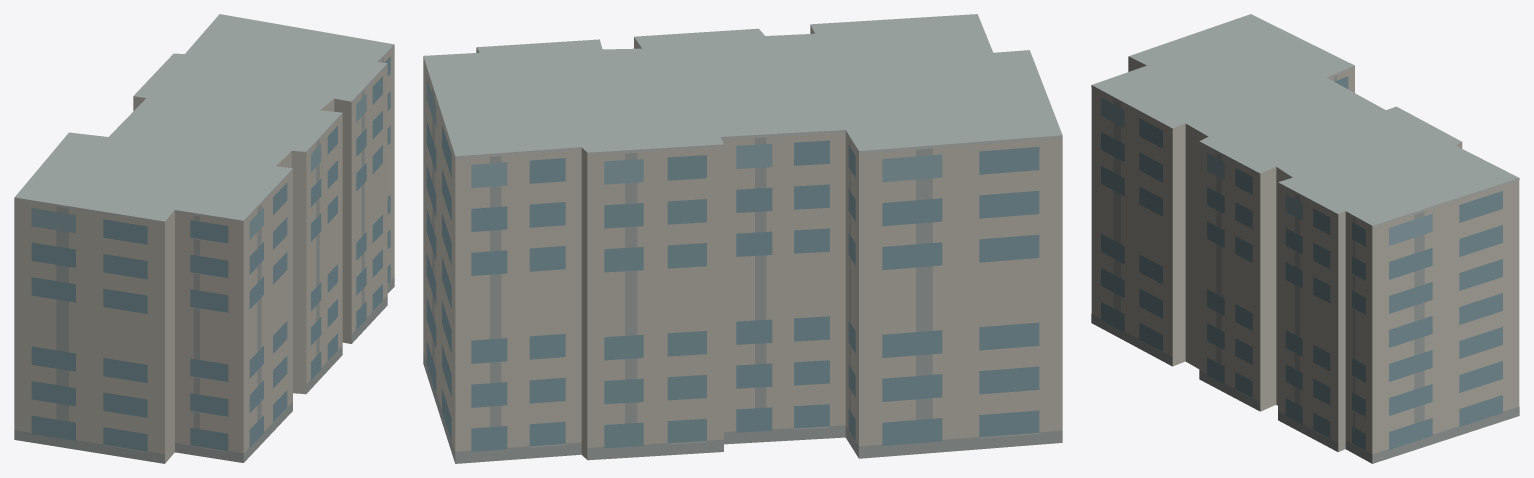
The model's file is survey-upis-32497701.glb.
3 views of the same model, side by side, from view 1: azimuth 30°, elevation 25°; view 2: azimuth 150°, elevation 25°; view 3: azimuth 270°, elevation 25° (orthographic). The views are drawn at different scales.
Visible parts, largest first — view 1: survey-upis-32497701.tmp; view 2: survey-upis-32497701.tmp; view 3: survey-upis-32497701.tmp.
Part boxes in pixels (bbox=[...]): survey-upis-32497701.tmp: bbox=[14, 14, 394, 463]; survey-upis-32497701.tmp: bbox=[423, 14, 1062, 463]; survey-upis-32497701.tmp: bbox=[1091, 14, 1519, 463].
Size of the model in its own units: 45.71 by 23.95 by 39.02.
